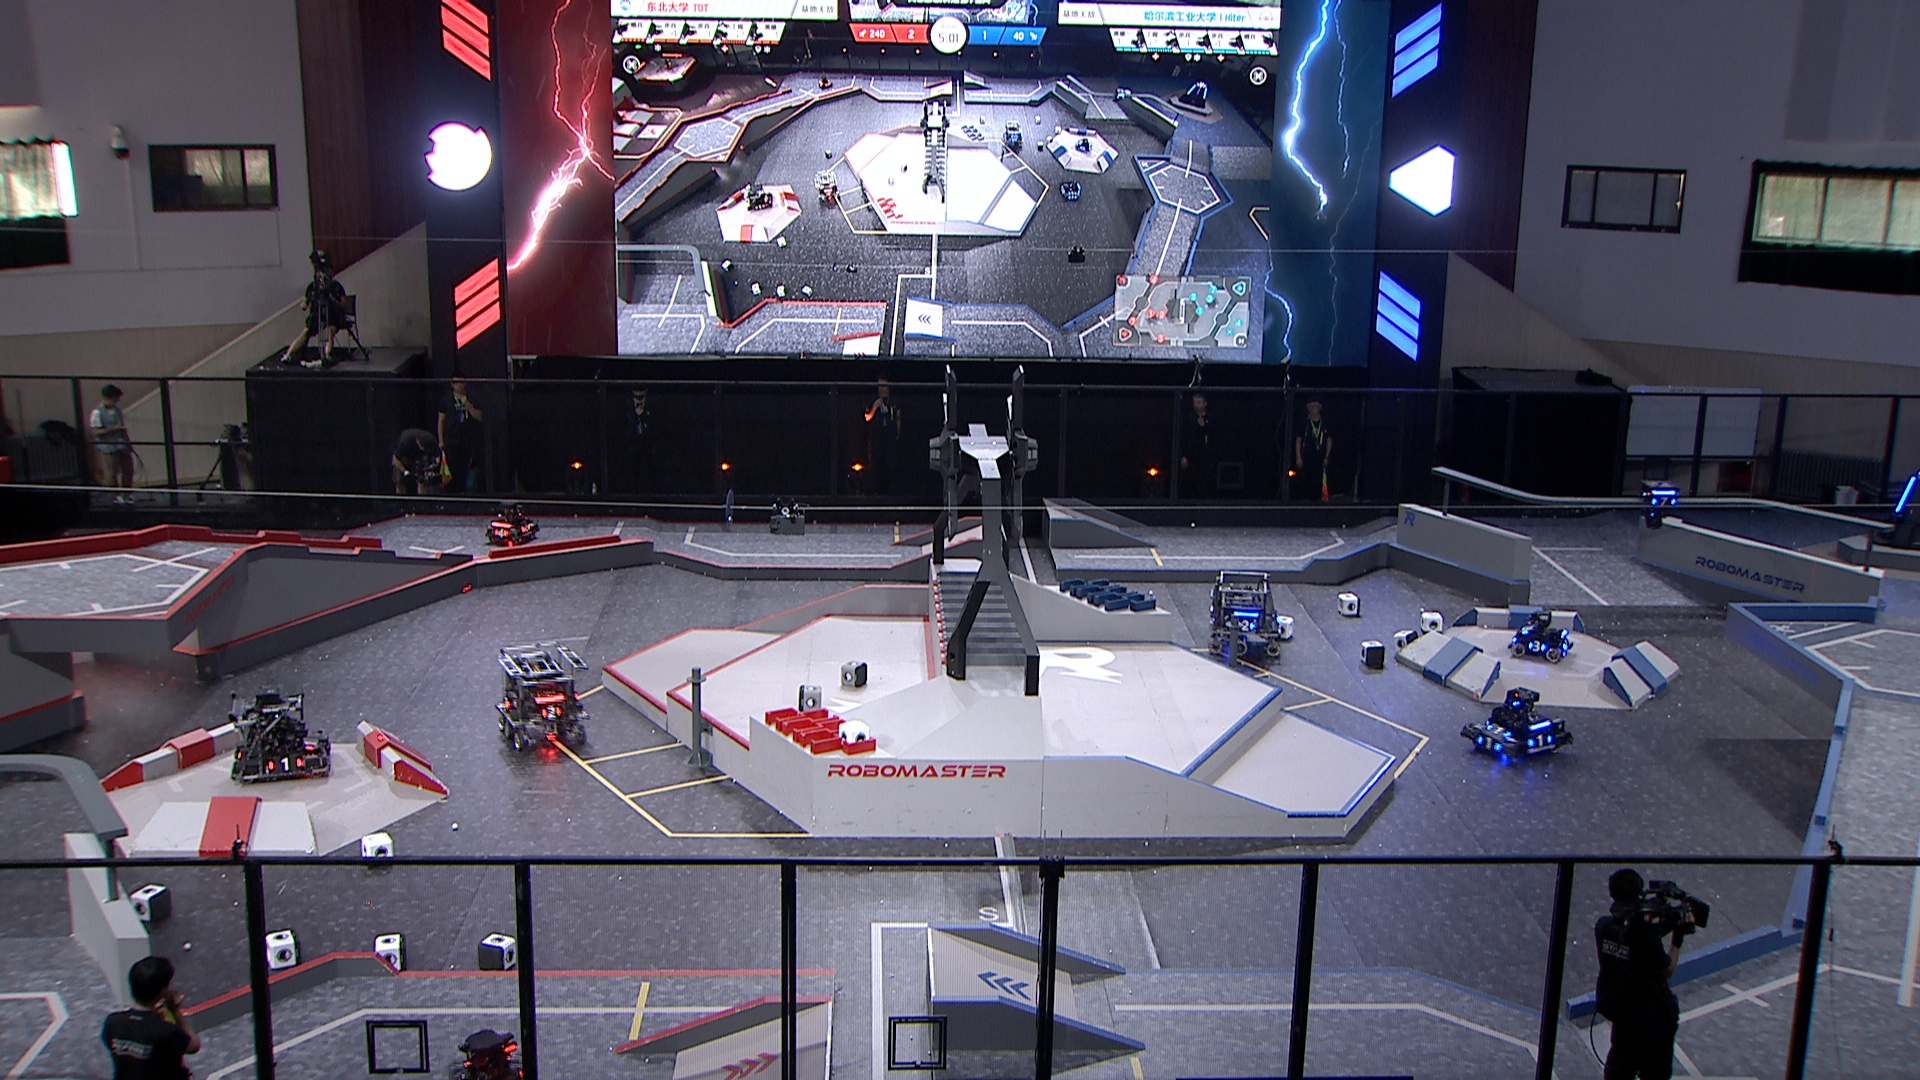armor: (1892, 475, 1916, 516), (269, 756, 301, 773), (1480, 735, 1506, 752), (1528, 733, 1553, 750), (1650, 493, 1679, 508), (1485, 723, 1510, 736), (305, 732, 319, 752), (1236, 618, 1255, 632), (543, 705, 562, 719), (498, 695, 513, 711), (319, 745, 332, 760), (1528, 641, 1545, 651), (491, 527, 506, 538), (1523, 621, 1534, 636), (1560, 637, 1571, 650), (520, 524, 531, 533)
base: (1873, 462, 1920, 553)
car: (495, 636, 596, 756), (225, 684, 330, 785), (1460, 683, 1575, 767), (1205, 564, 1283, 665), (440, 1026, 541, 1080), (1505, 605, 1575, 665), (483, 500, 542, 547)
ignore: (740, 178, 773, 214), (814, 167, 843, 206), (1178, 76, 1211, 107), (1000, 121, 1029, 149), (1060, 177, 1083, 200), (814, 73, 836, 94), (1073, 136, 1095, 157), (1112, 83, 1133, 102)
watcher: (1636, 476, 1687, 531)
